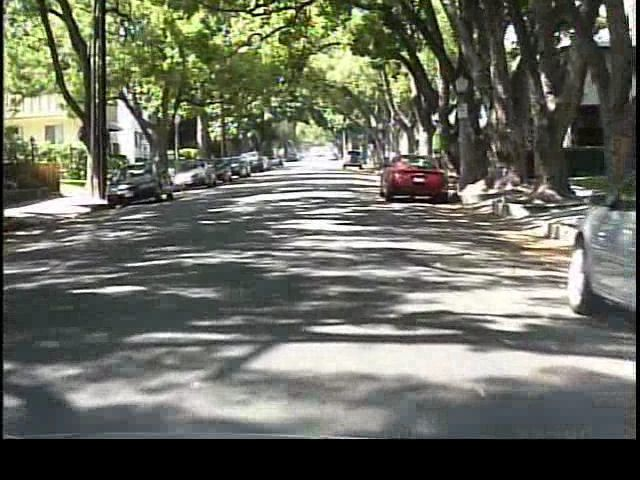person: (147, 146, 167, 189)
